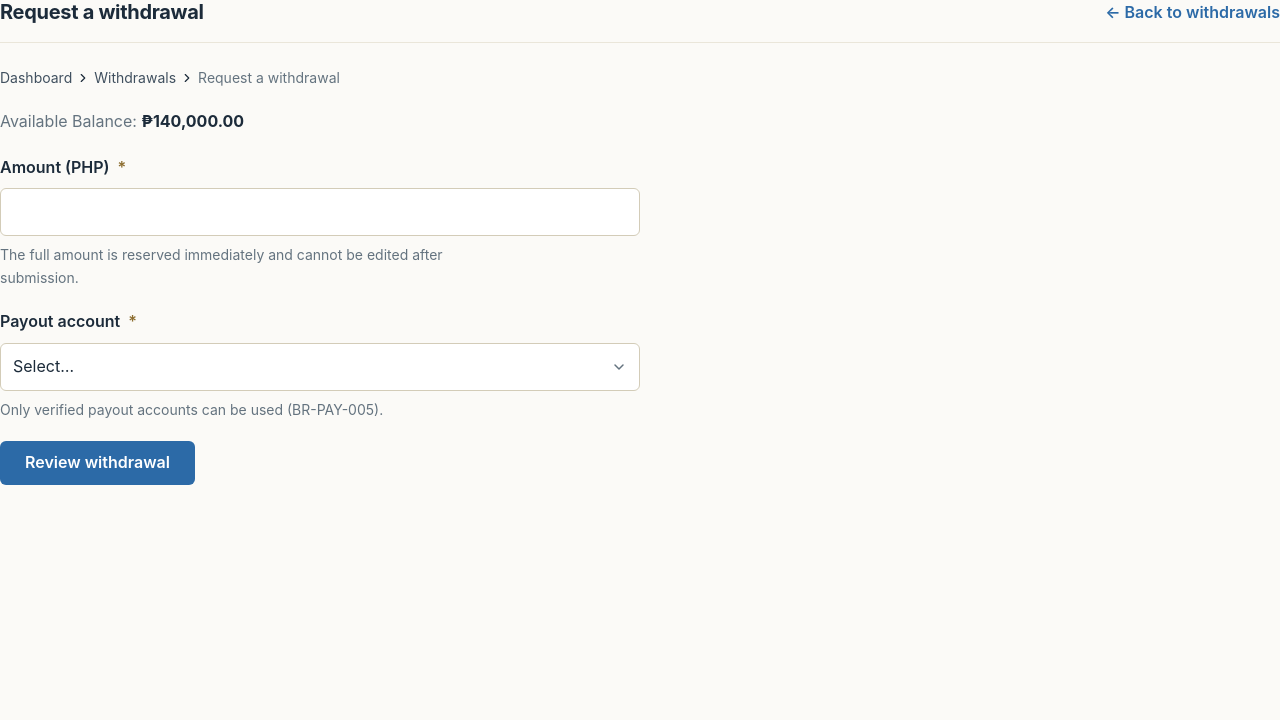
Test: member WithdrawalRequestPage › surfaces a 409 INSUFFICIENT_BALANCE from the server
The image size is (1280, 720).
Type "25000.00" into the field labelled "Amount (PHP)" at [320, 212], box [0, 188, 640, 236]
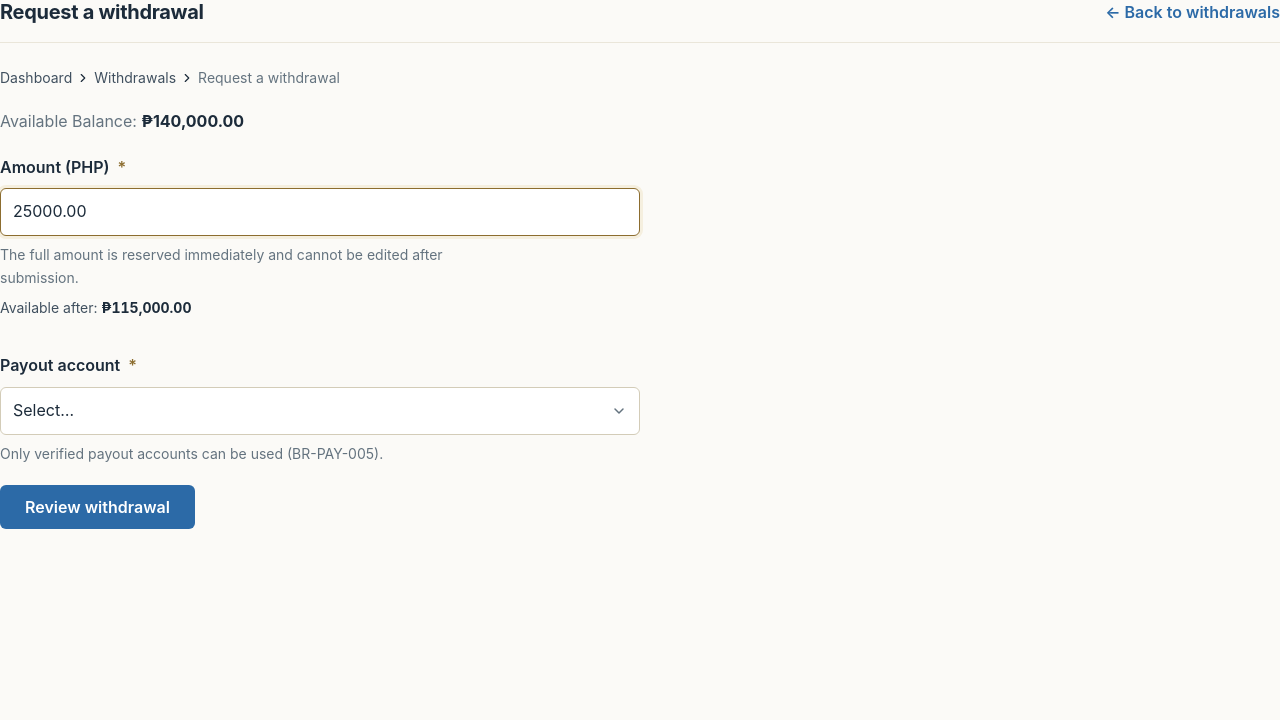
Select "Traditional bank · •••• 7890" in the dropdown labelled "Payout account" at [320, 411], box [0, 387, 640, 435]
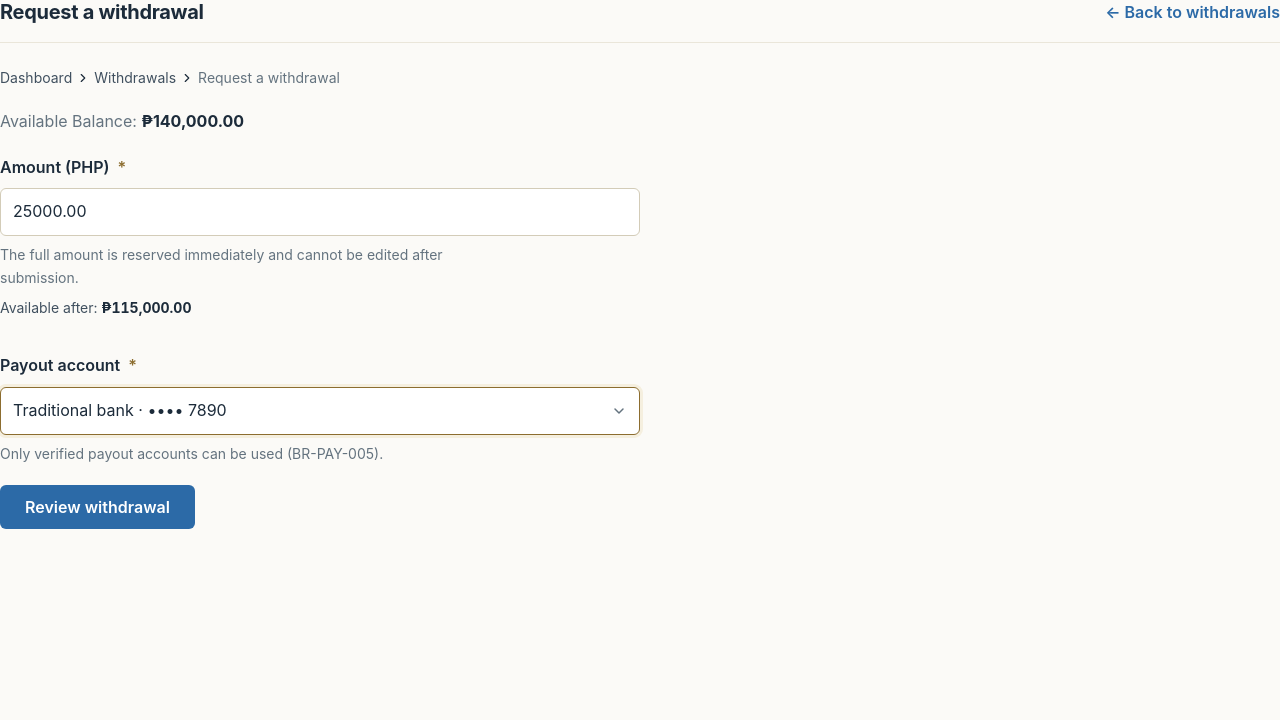
Click the button "Review withdrawal" at [97, 507], box [0, 485, 195, 529]
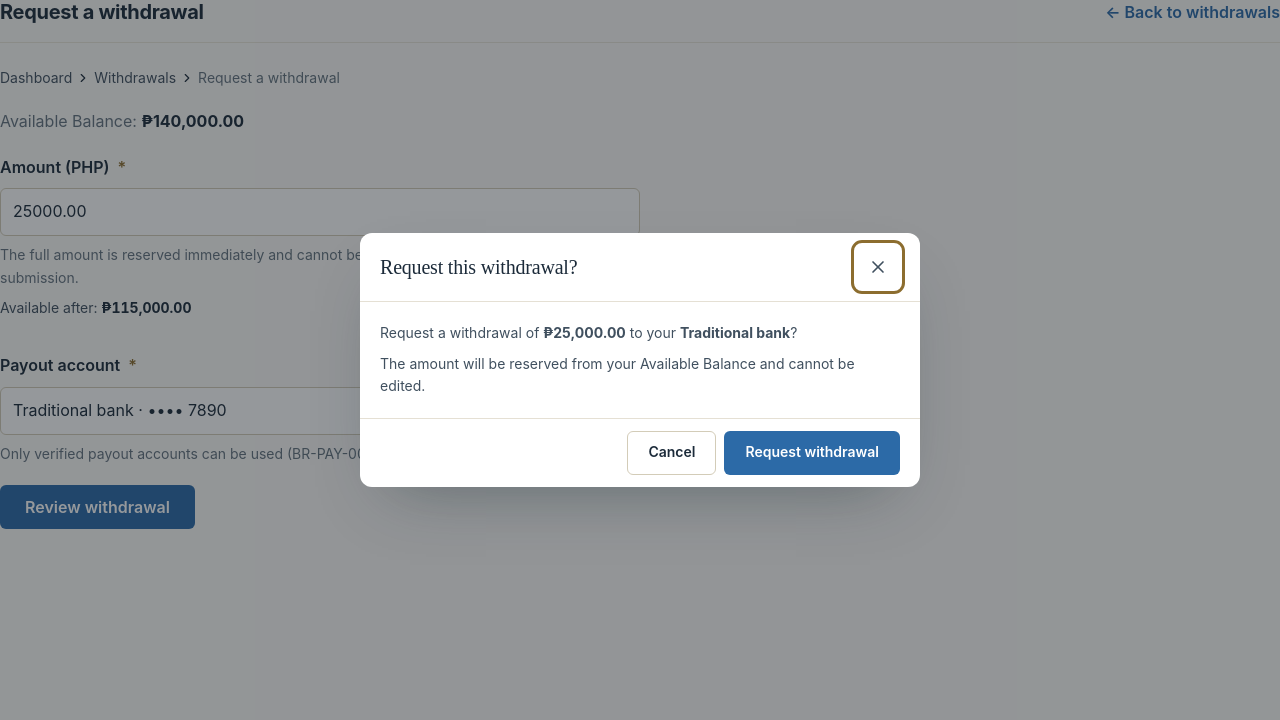
Click the button "Request withdrawal" at [812, 453], box [724, 431, 900, 475]
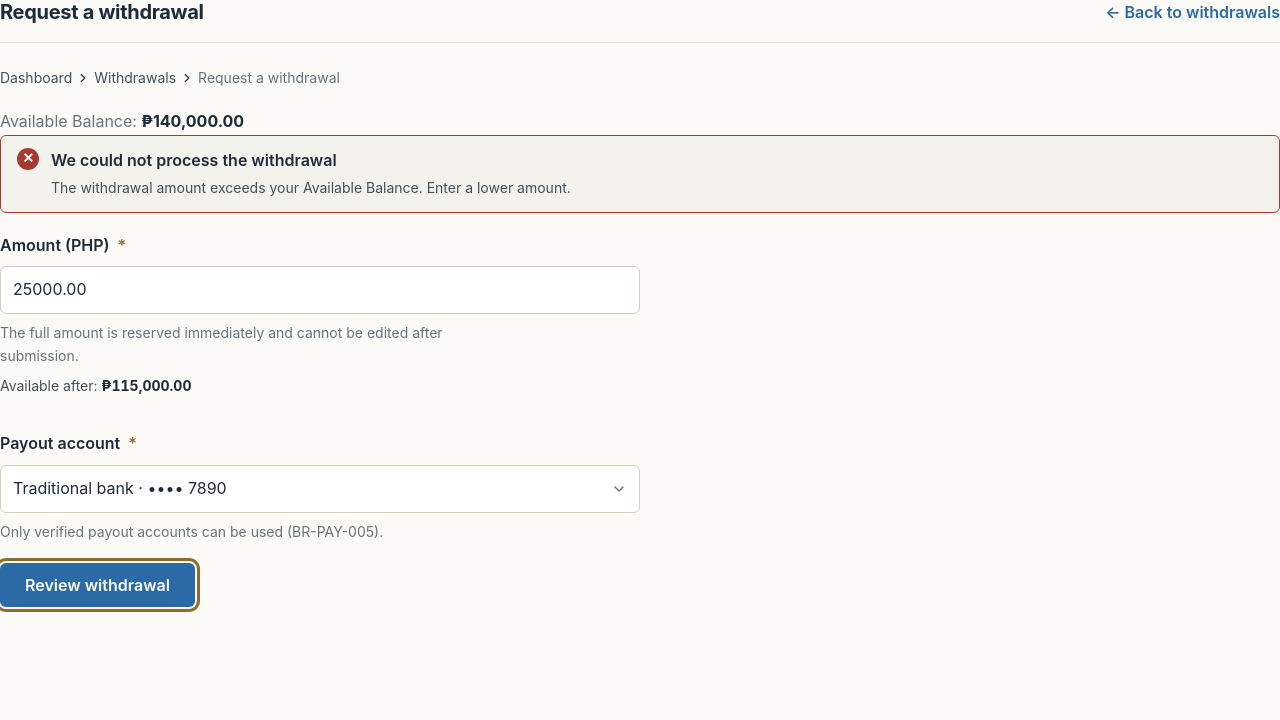
Expected: the text "The withdrawal amount exceeds your Available Balance. Enter a lower amount." is shown, [51, 177, 571, 200]
